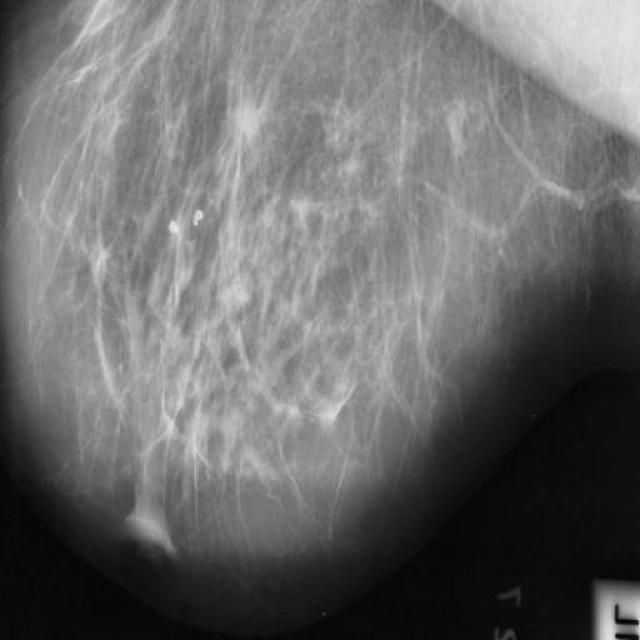cancer: (143, 388, 202, 472)
